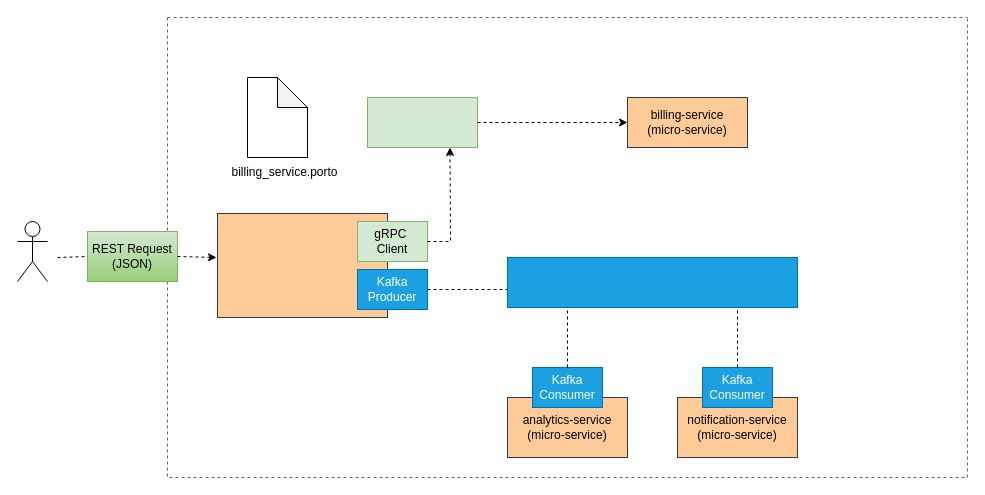
Image size: 985x495. Some labels were removed from this diagram. The shapes that lost their labels are listed below. From the top down, each one's centre as x and y in pixels, then its label:
At point (422, 122): "gRPC Request Protobuf".
At point (32, 251): "Client".
At point (302, 265): "patient-service (micro-service)".
At point (652, 282): "Kafka - Topic (patient)".
